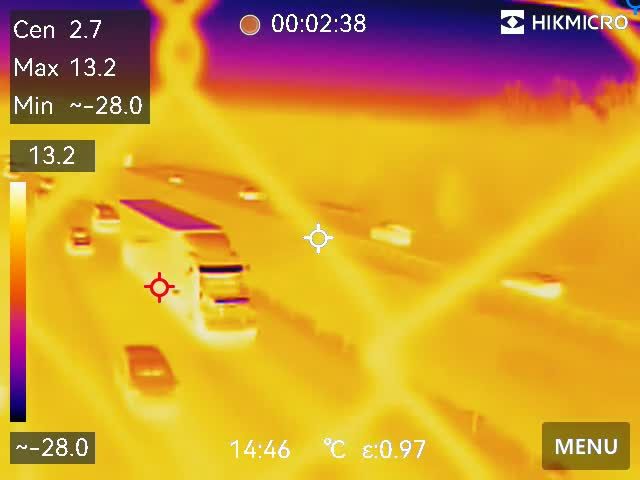heavyTruck: (117, 194, 272, 352)
